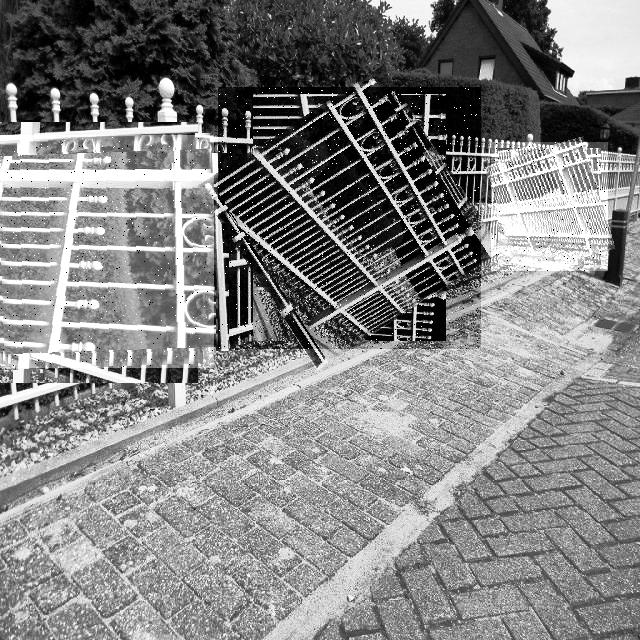fences: (218, 87, 481, 349), (0, 135, 214, 368), (491, 142, 608, 271)
